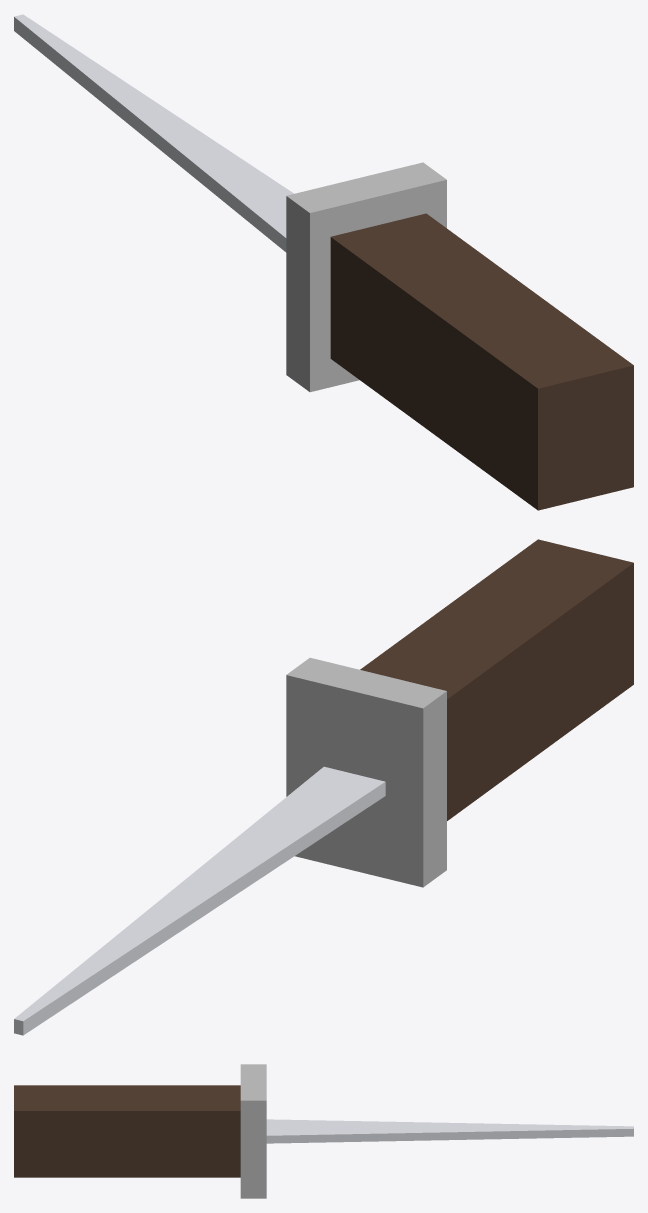
The model's file is cuchillo.glb.
3 renders of one model, top to bottom at view 1: azimuth 30°, elevation 25°; view 2: azimuth 150°, elevation 25°; view 3: azimuth 270°, elevation 25°, orthographic. The views are drawn at different scales.
Visible parts, largest first — view 1: cuchillo; view 2: cuchillo; view 3: cuchillo.
Boxes of the visible parts, x1,y1,x2,y2 form: cuchillo: (14, 14, 633, 510); cuchillo: (14, 539, 633, 1035); cuchillo: (14, 1064, 633, 1198).
Size of the model in its own units: 0.04 by 0.05 by 0.287.
